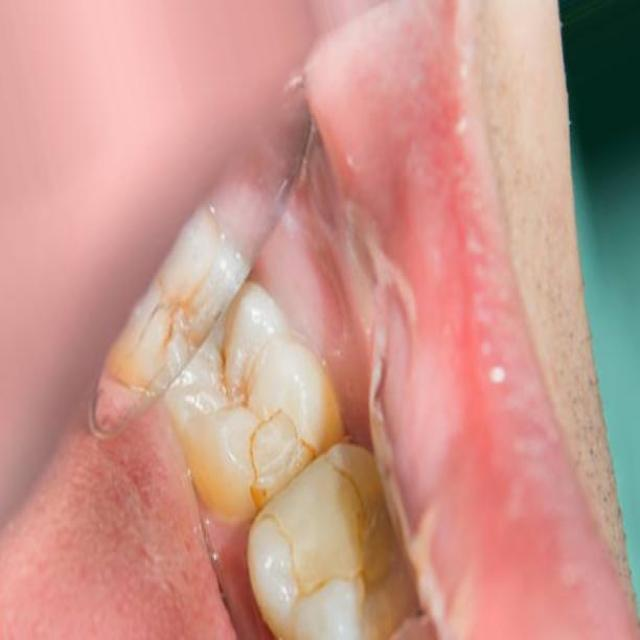caries: (265, 457, 372, 599), (236, 399, 316, 506)
